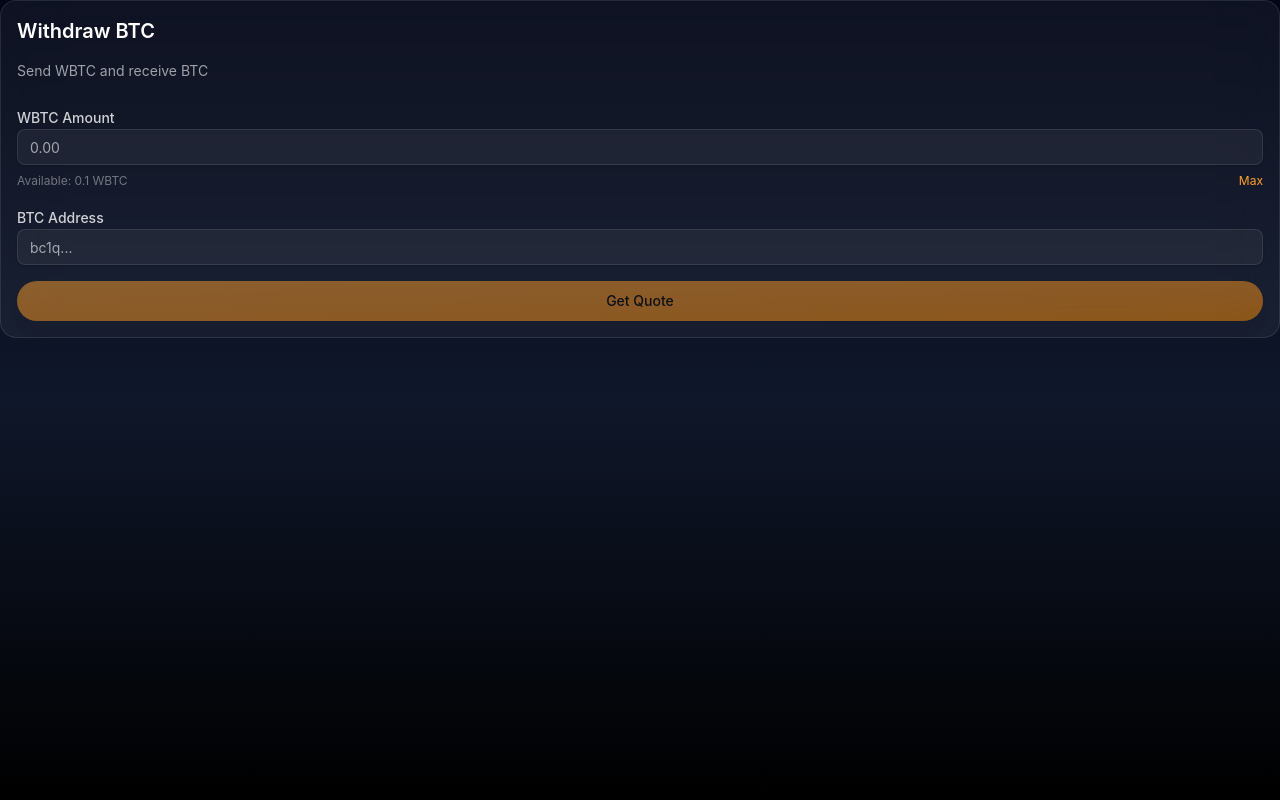
Test: WithdrawalFlow › should disable submit when balance insufficient
Type "0.5" into the number field labelled "WBTC Amount". click: (640, 147)
box: 17,129 -> 1263,165
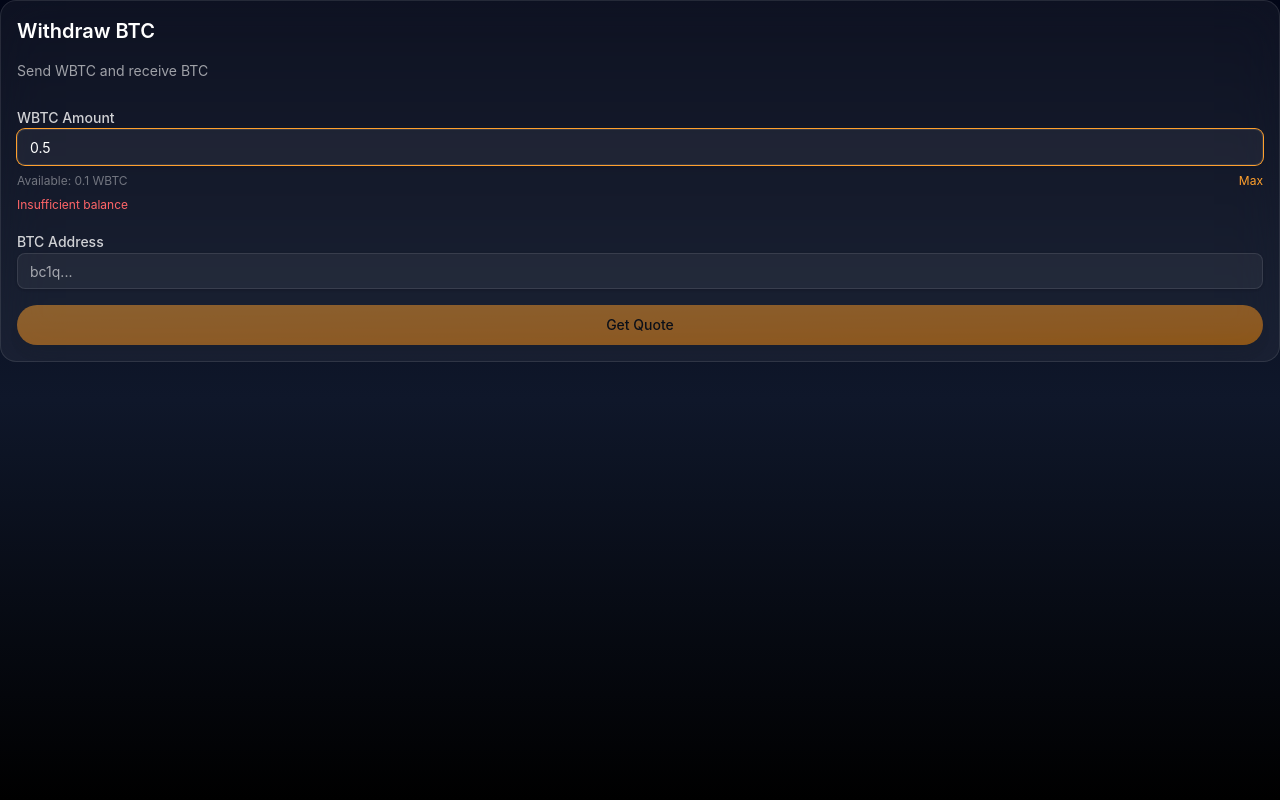
Expected: the button "Get Quote" is disabled, 17,305 -> 1263,345
Expected: the text "Insufficient balance" is shown, 17,197 -> 128,212
